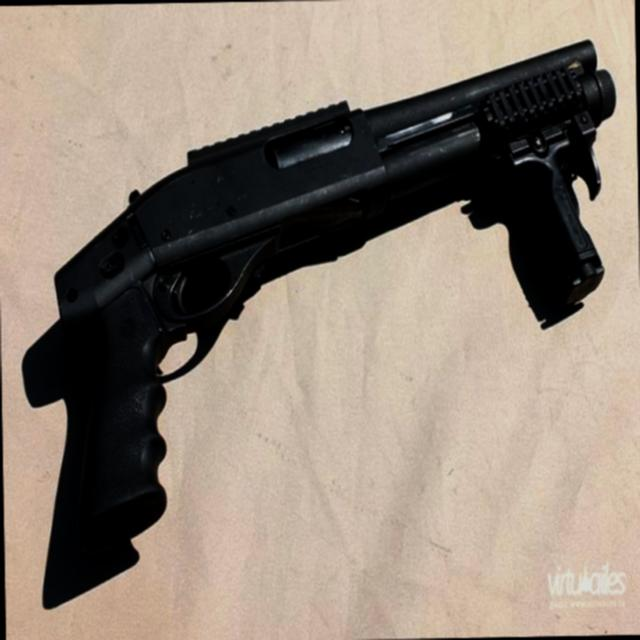shotgun: (51, 32, 627, 556)
